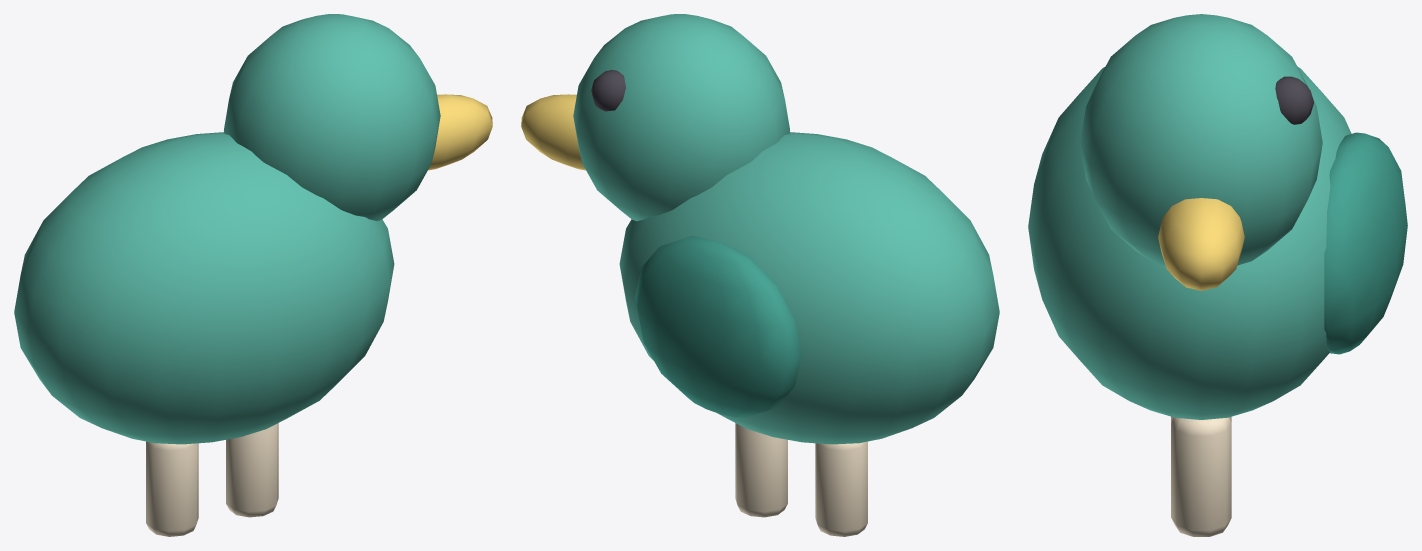
File: ornament_b.glb
3 views of the same model, side by side, from view 1: azimuth 30°, elevation 25°; view 2: azimuth 150°, elevation 25°; view 3: azimuth 270°, elevation 25° (orthographic). The views are drawn at different scales.
Visible parts, largest first — view 1: body; view 2: body; view 3: body.
Part boxes in pixels (box(x1,y1,x2,y2)): body: box(14, 14, 492, 536); body: box(521, 14, 999, 536); body: box(1028, 14, 1407, 536).
Size of the model in its own units: 0.145 by 0.14 by 0.0876.
